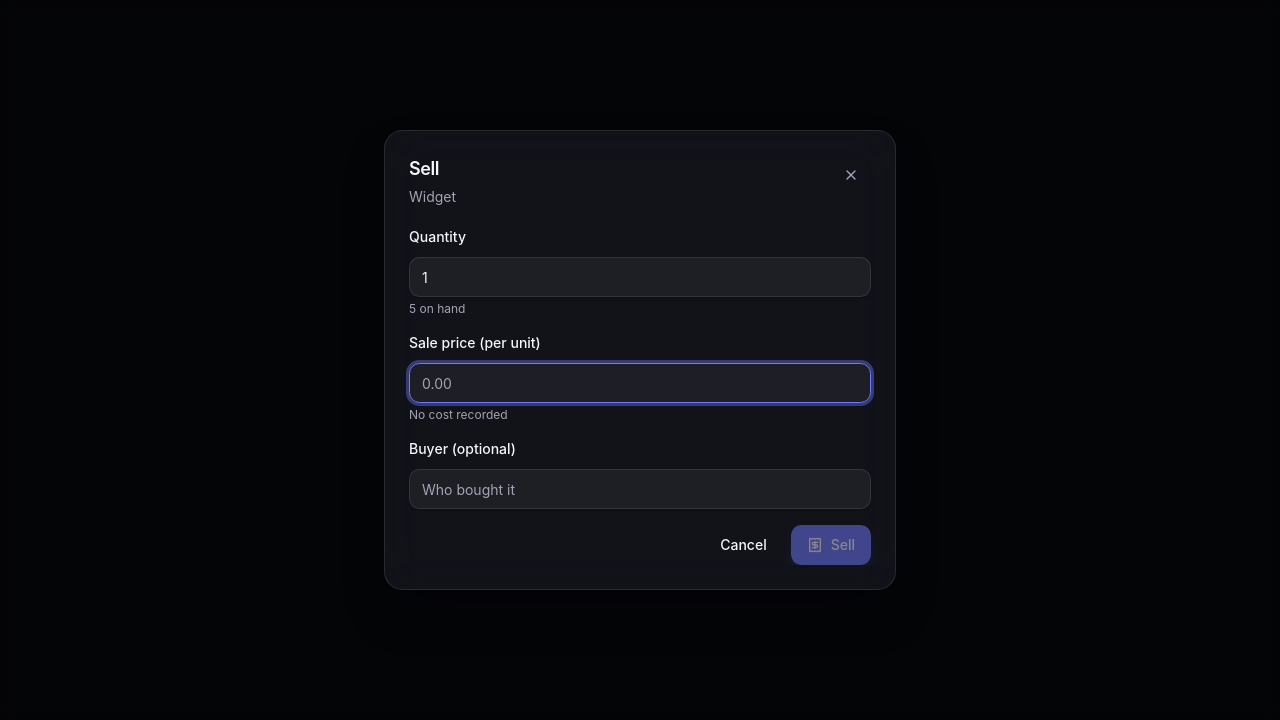
it: SellDialog — a failed sale surfaces the error and stays open › shows the mutation error in an alert and does not close
Type "5" into the number field with placeholder "0.00".
click(640, 383); type("5")  # box x1=409 y1=363 x2=871 y2=403
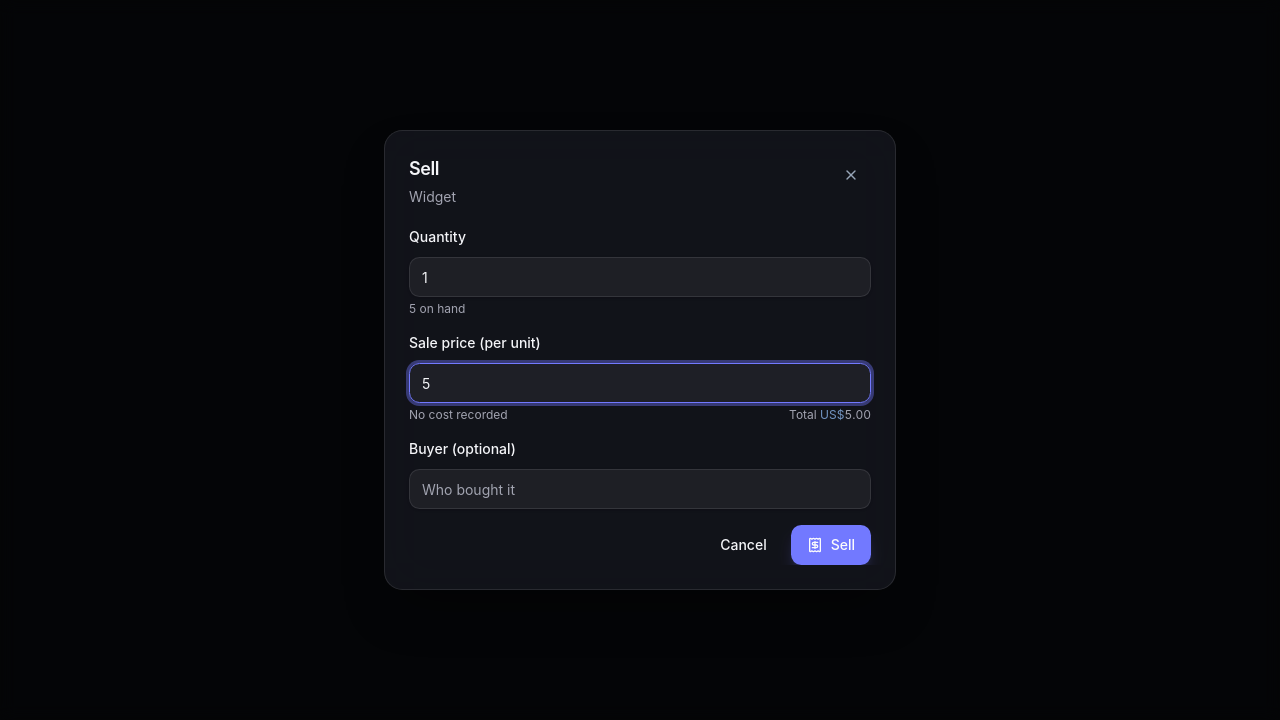
Click the button "Sell".
click(831, 545)  # box x1=791 y1=525 x2=871 y2=565
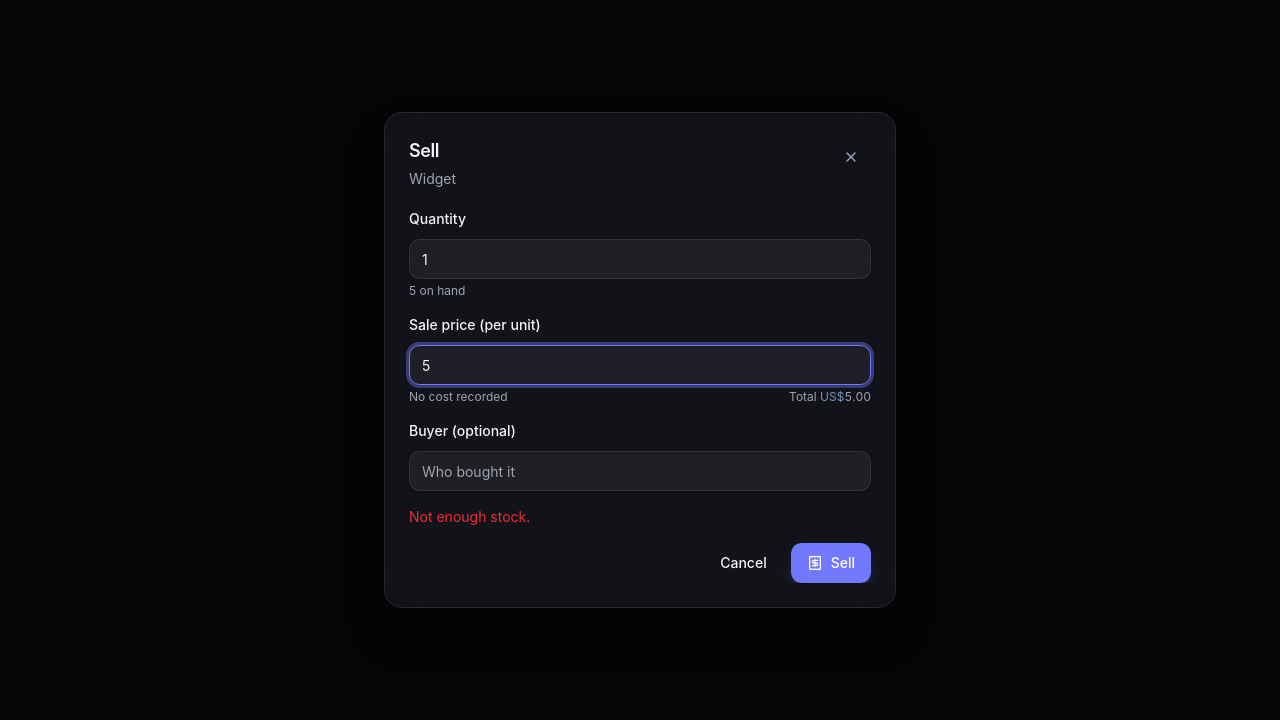
Check: the message reads "Not enough stock.", box x1=409 y1=508 x2=530 y2=525
